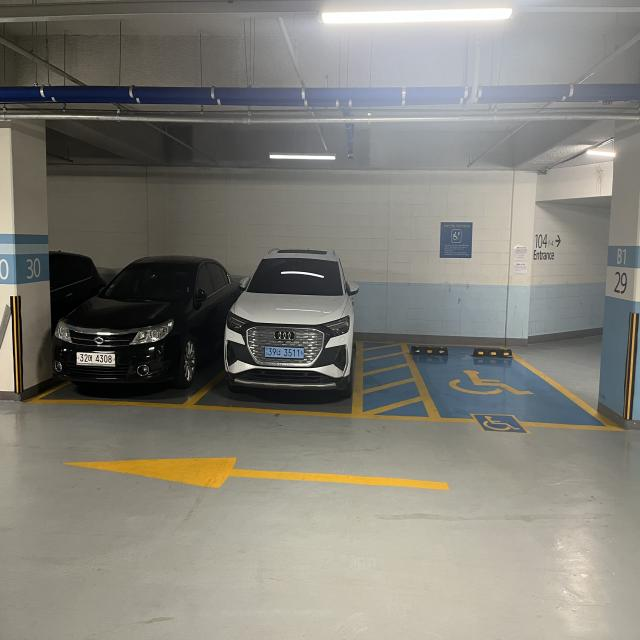empty: (408, 351, 614, 433)
occupied: (72, 254, 215, 413), (228, 256, 363, 418)
